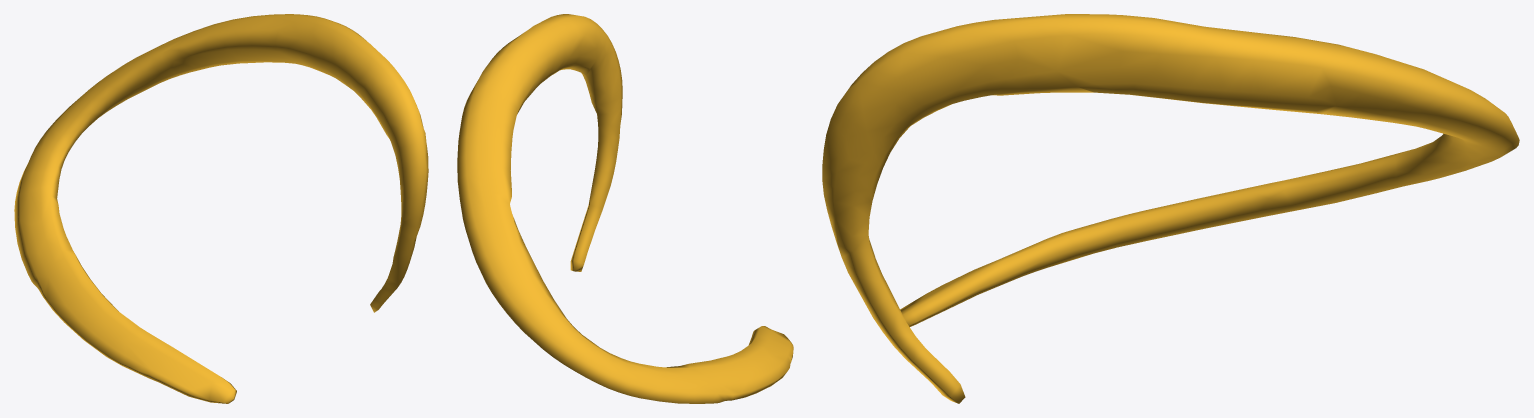
Rendered from nervoso-fornix-r.glb.
3 views of the same model, side by side, from view 1: azimuth 30°, elevation 25°; view 2: azimuth 150°, elevation 25°; view 3: azimuth 270°, elevation 25° (orthographic). The views are drawn at different scales.
Visible parts, largest first — view 1: Fornix.r; view 2: Fornix.r; view 3: Fornix.r.
Part boxes in pixels (left/top/right/bottom): Fornix.r: left=14, top=14, right=428, bottom=403; Fornix.r: left=457, top=14, right=793, bottom=403; Fornix.r: left=822, top=14, right=1519, bottom=403.
Size of the model in its own units: 0.0305 by 0.031 by 0.0432.
